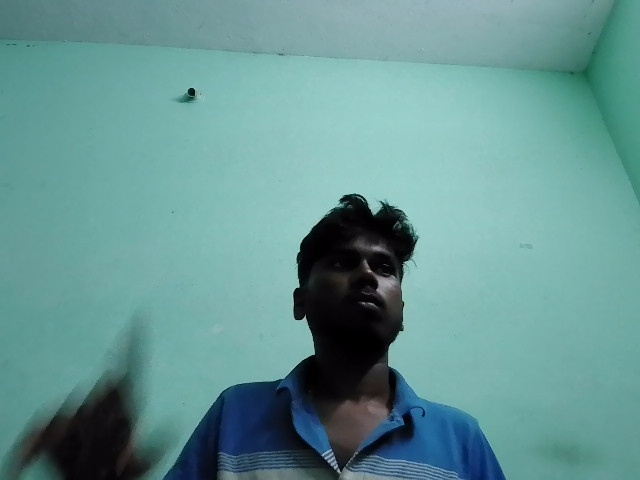I Love You: (1, 316, 208, 480)
